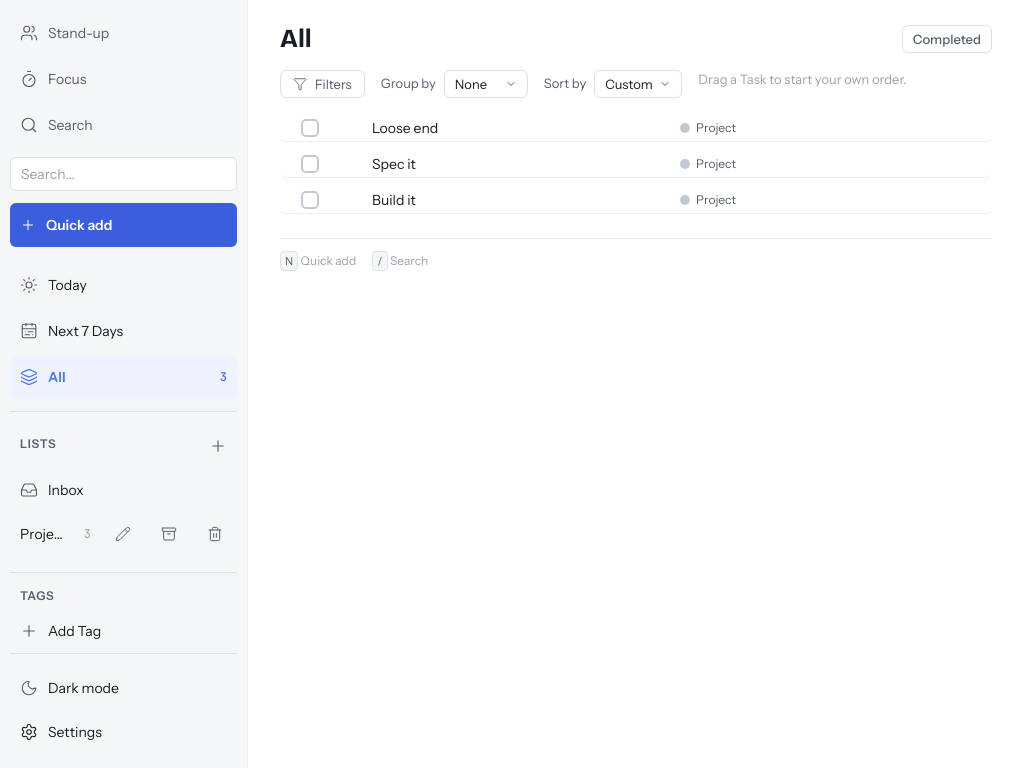
Scenario: Sections in the list view › groups tasks under section headings, ungrouped ones under No section
(page scrolled)
Click the button "Project 3": (56, 534) 10,512 -> 101,556
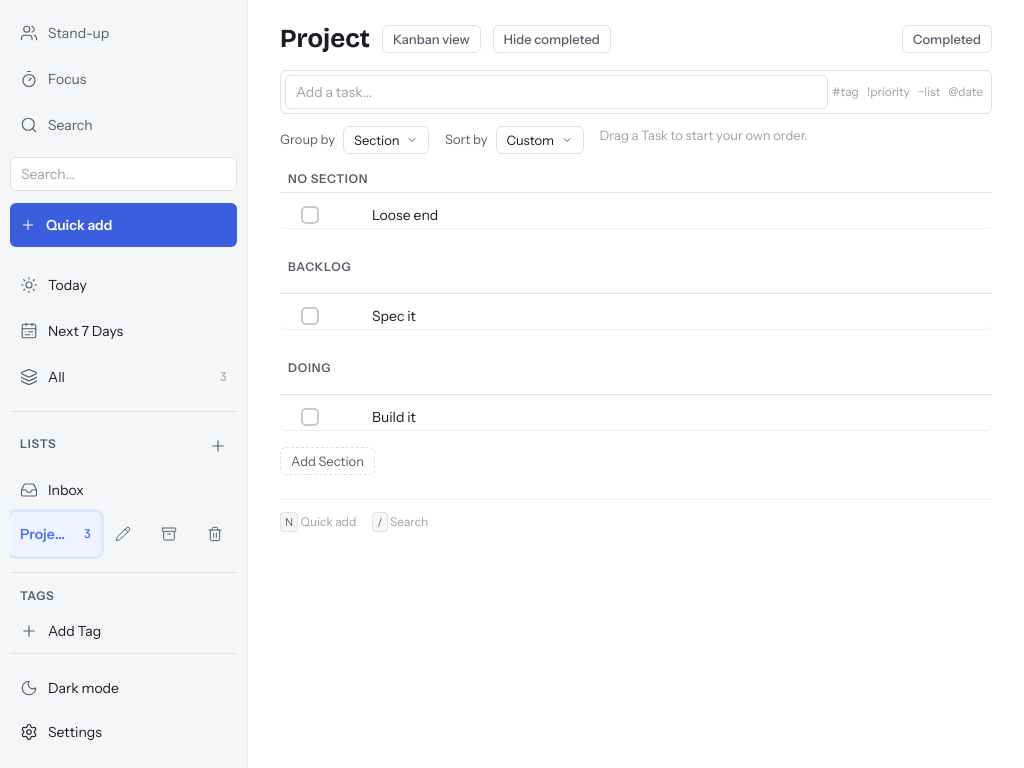
Check: the text "Spec it" is shown, box 372,307 -> 416,325
Check: the heading "Backlog" is shown, box 288,258 -> 351,276
Check: the headings read "No section", "Backlog", "Doing", in this order, box 288,170 -> 368,188; 288,258 -> 351,276; 288,359 -> 331,377
